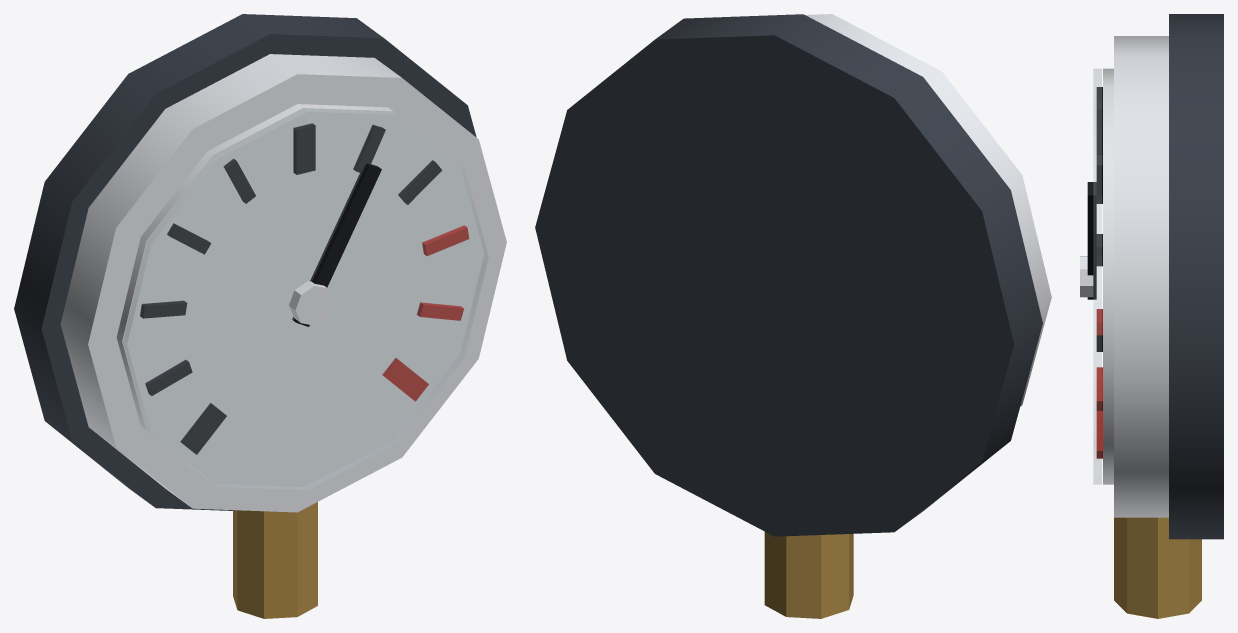
Rendered from valve_dial_gauge.glb.
3 views of the same model, side by side, from view 1: azimuth 30°, elevation 25°; view 2: azimuth 150°, elevation 25°; view 3: azimuth 270°, elevation 25° (orthographic). The views are drawn at different scales.
Parts seen in each view (by area): view 1: valve_dial_gauge; view 2: valve_dial_gauge; view 3: valve_dial_gauge.
Part boxes in pixels (x1,y1,x2,y2): valve_dial_gauge: (14, 14, 506, 618); valve_dial_gauge: (535, 14, 1051, 618); valve_dial_gauge: (1080, 14, 1223, 618).
Size of the model in its own units: 0.48 by 0.565 by 0.131.
